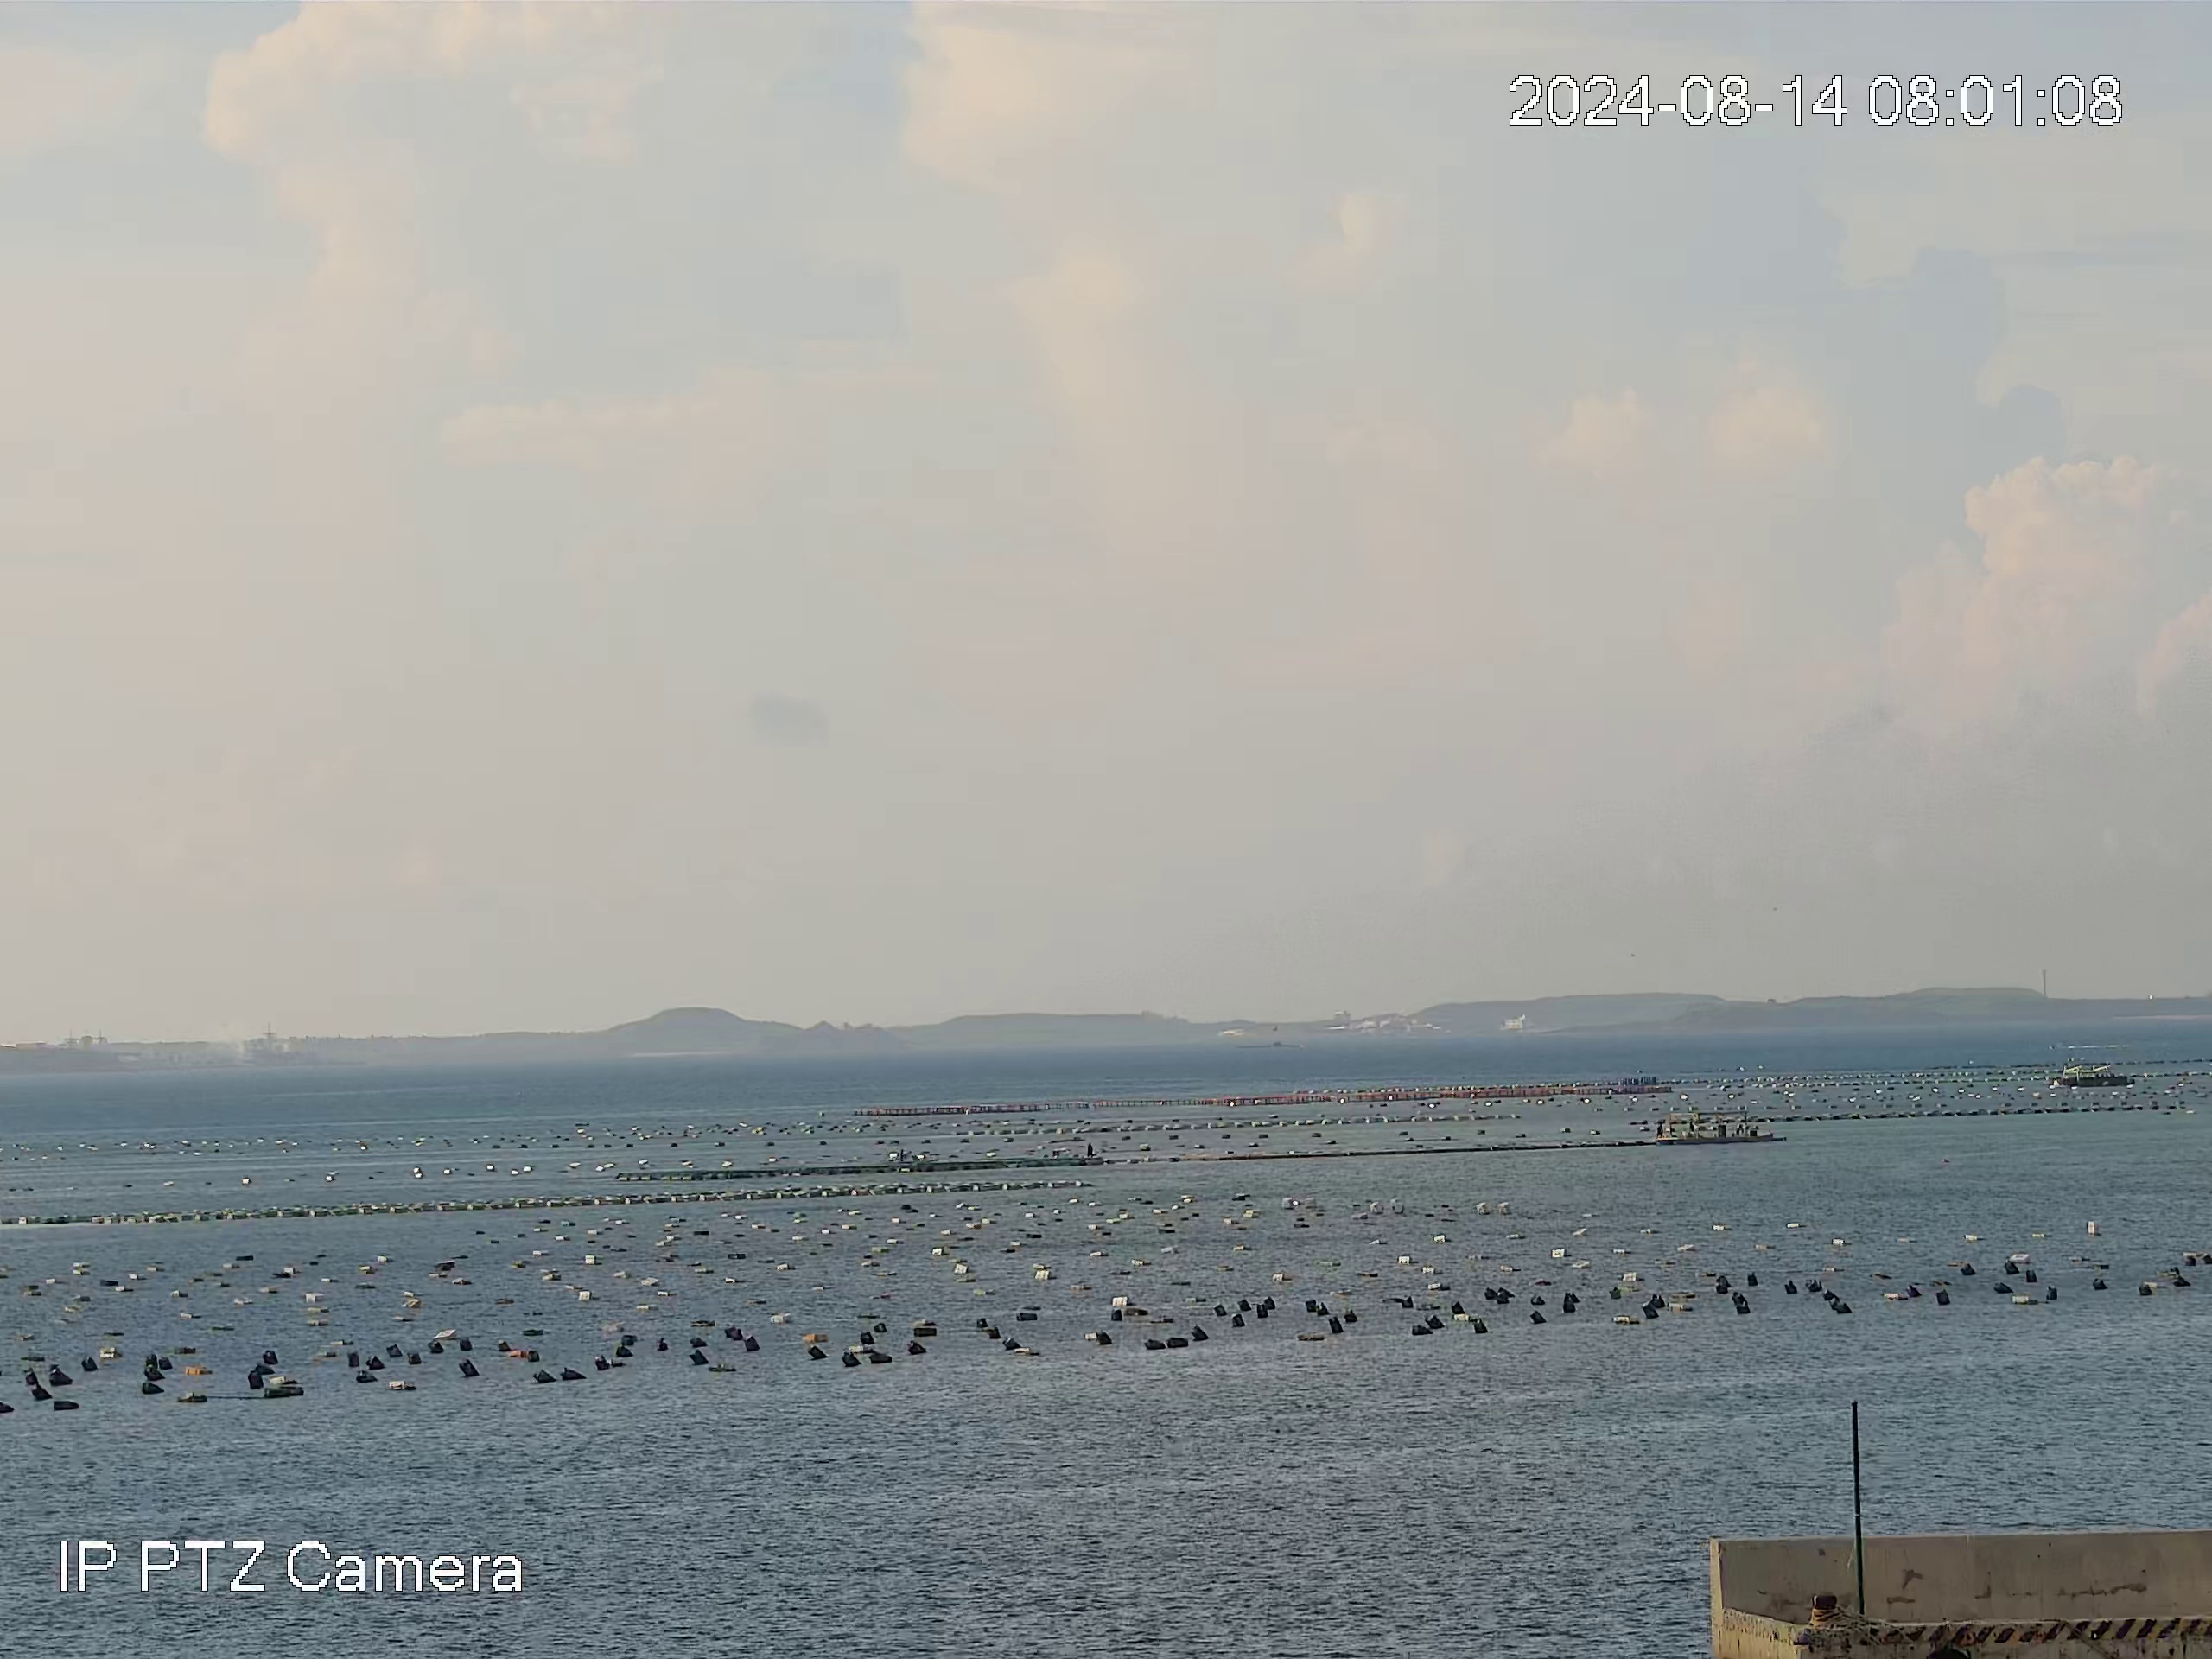boat: (1653, 1114, 1778, 1145), (2050, 1061, 2139, 1089)
